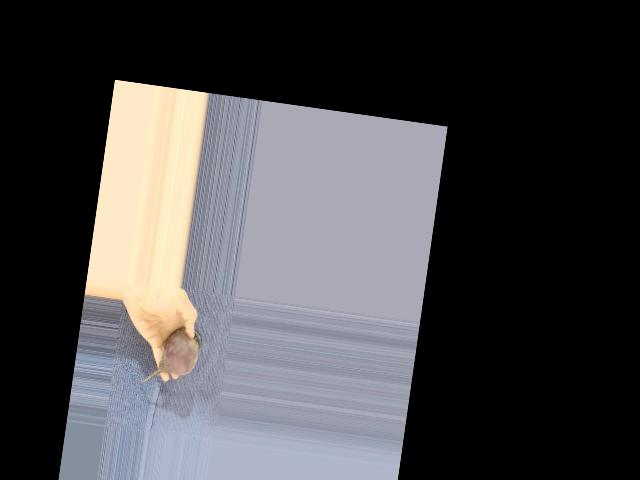beet: (140, 322, 203, 390)
